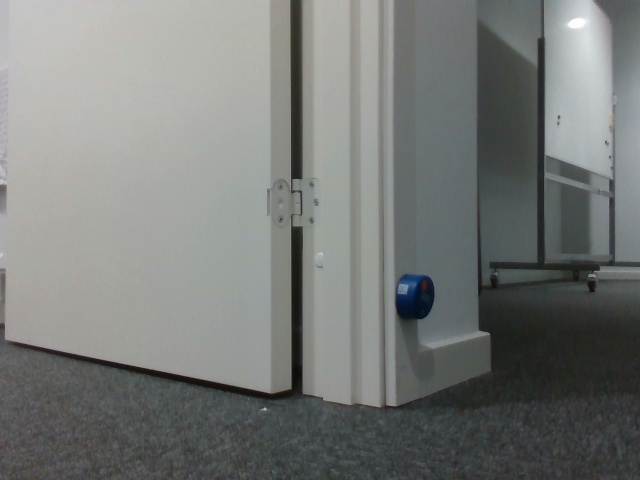alfa: (391, 271, 436, 322)
